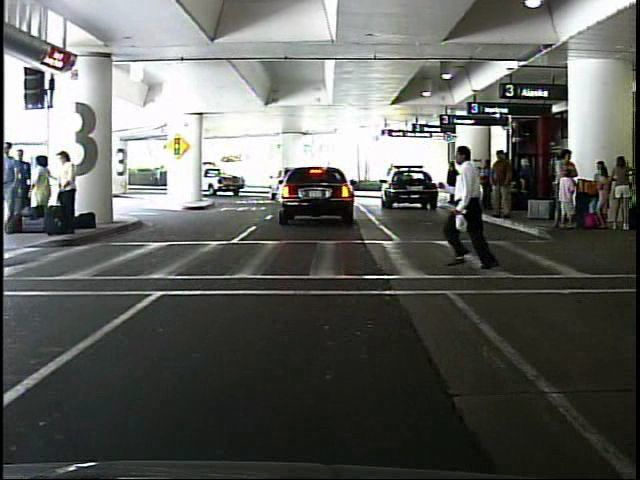person: (443, 135, 506, 279), (59, 146, 84, 236), (30, 151, 58, 230), (445, 161, 458, 205), (151, 162, 164, 189)
